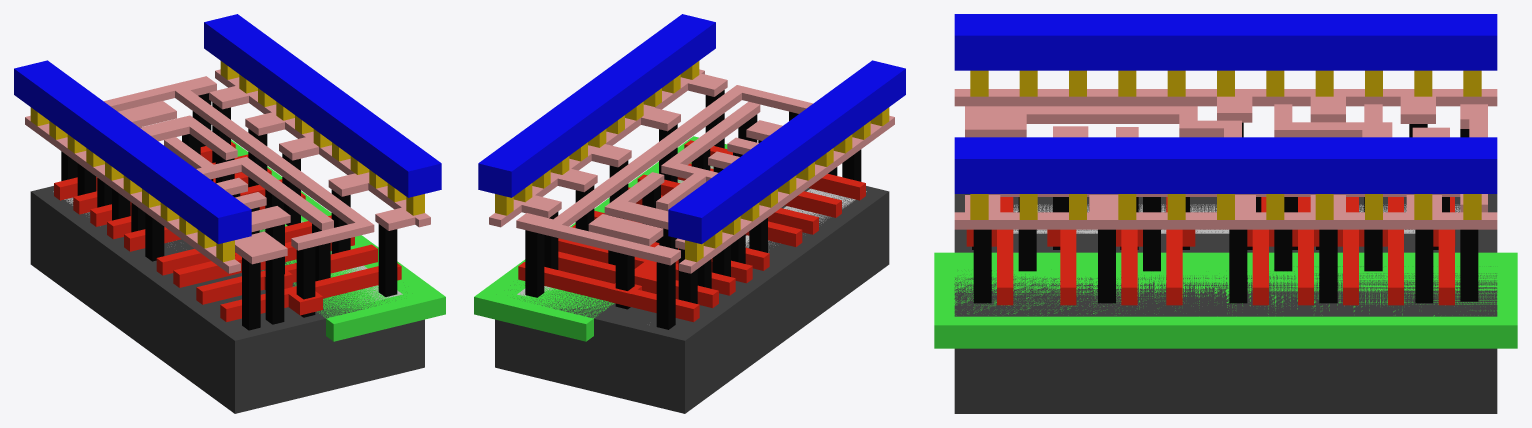
The model's file is sky130_fd_sc_hd__and4b_4.obj.
3 renders of one model, left to right at view 1: azimuth 30°, elevation 25°; view 2: azimuth 150°, elevation 25°; view 3: azimuth 270°, elevation 25°, orthographic. The views are drawn at different scales.
Visible parts, largest first — view 1: subs, metal1, li, licon, poly, nwell, mcon; view 2: subs, metal1, li, poly, licon, nwell, mcon, diff; view 3: metal1, subs, nwell, li, poly, licon, mcon, diff.
Boxes of the visible parts, x1,y1,x2,y2 form: subs: [30, 186, 424, 413]; metal1: [14, 14, 441, 244]; li: [25, 69, 430, 273]; licon: [61, 93, 397, 330]; poly: [54, 141, 401, 322]; nwell: [231, 140, 445, 341]; mcon: [30, 61, 424, 262]; subs: [495, 181, 889, 413]; metal1: [478, 14, 905, 244]; li: [489, 69, 894, 273]; poly: [518, 140, 865, 322]; licon: [525, 90, 861, 329]; nwell: [474, 136, 727, 341]; mcon: [495, 61, 889, 262]; diff: [745, 188, 866, 247]; metal1: [954, 14, 1497, 193]; subs: [954, 194, 1497, 413]; nwell: [934, 252, 1517, 348]; li: [954, 89, 1497, 229]; poly: [966, 197, 1455, 305]; licon: [972, 122, 1478, 303]; mcon: [970, 70, 1481, 219]; diff: [1013, 204, 1460, 233].
Size of the model in its own units: 3.2 by 2.74 by 5.44.
